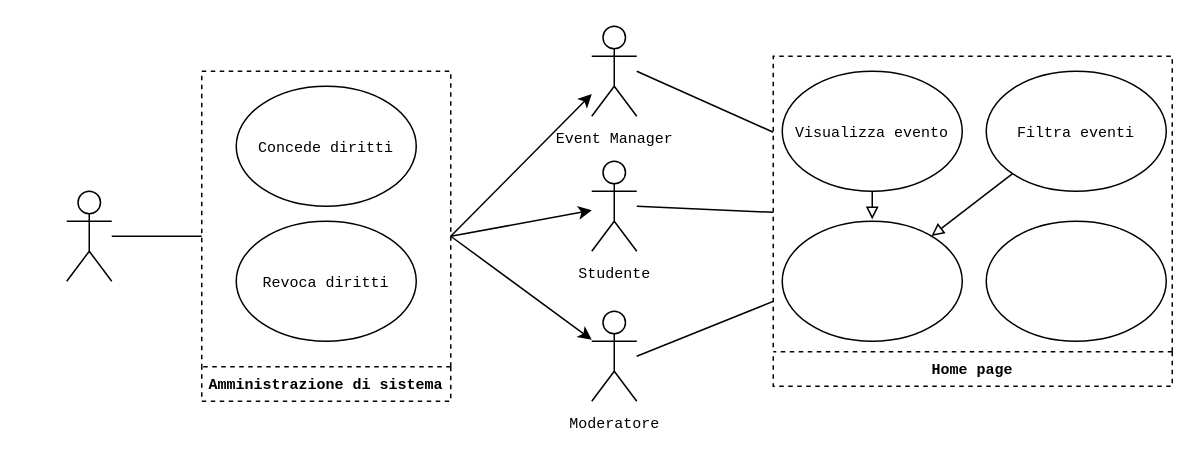
This 1199x461 diagram has some shape labels left out. Here are the shapes that lost their labels. From the top down, the centre of each, then its label:
At (x=88, y=235): "Amministratore".
At (x=871, y=280): "Visualizza lista eventi".
At (x=1075, y=280): "Visualizza calendario".
